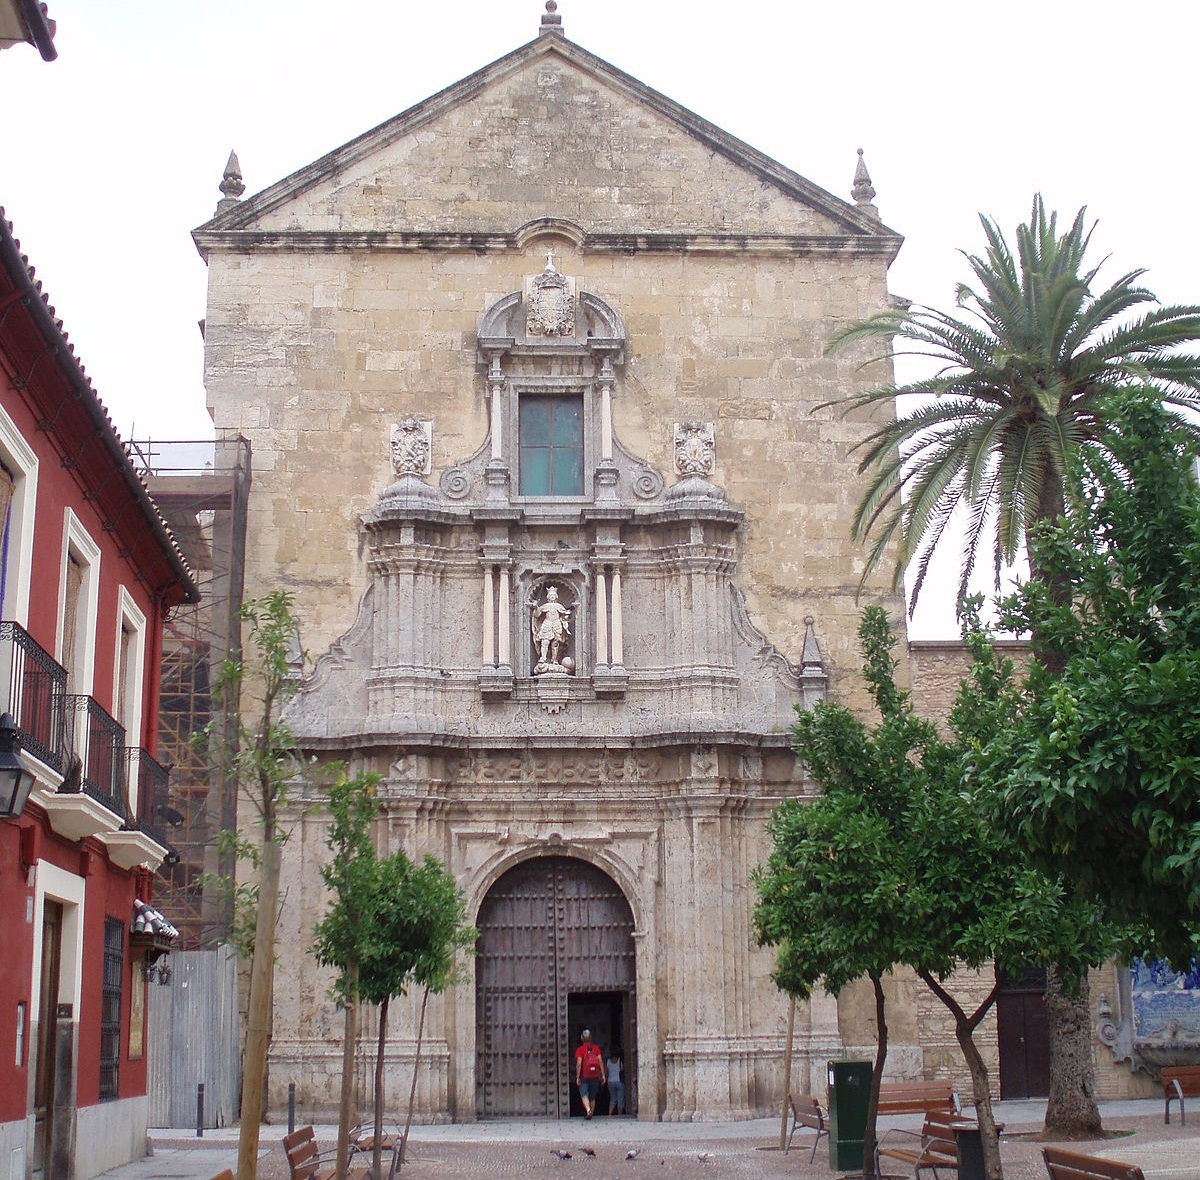arco-medio-punto: (459, 839, 653, 961)
fronton: (185, 25, 909, 262)
fronton-partido: (470, 280, 641, 361)
